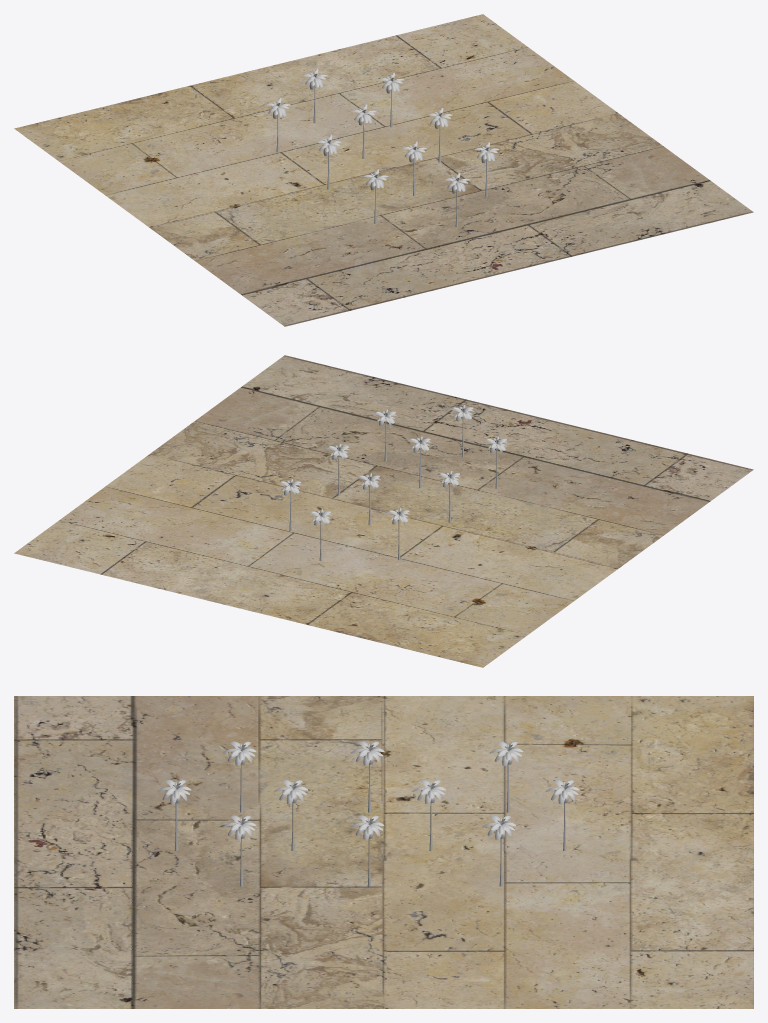
The model's file is Tree.FBX.
The picture shows the model from 3 angles, top to bottom: view 1: azimuth 30°, elevation 25°; view 2: azimuth 150°, elevation 25°; view 3: azimuth 270°, elevation 25°; orthographic projection. The views are drawn at different scales.
Visible parts, largest first — view 1: Plane001; view 2: Plane001; view 3: Plane001, palm_tree (×2), palm_tree005, palm_tree007, palm_tree004, palm_tree009, palm_tree008, palm_tree006, palm_tree002, palm_tree001.
Boxes of the visible parts, x1,y1,x2,y2 form: Plane001: (14,14,753,326); Plane001: (14,355,753,667); Plane001: (14,696,753,1008); palm_tree (×2): (157,780,445,850); palm_tree005: (222,815,256,886); palm_tree007: (222,741,256,812); palm_tree004: (350,815,384,886); palm_tree009: (489,741,523,812); palm_tree008: (350,741,384,812); palm_tree006: (482,815,516,886); palm_tree002: (545,779,579,850); palm_tree001: (274,780,307,850).
Size of the model in its own units: 4296 by 440 by 4296.
